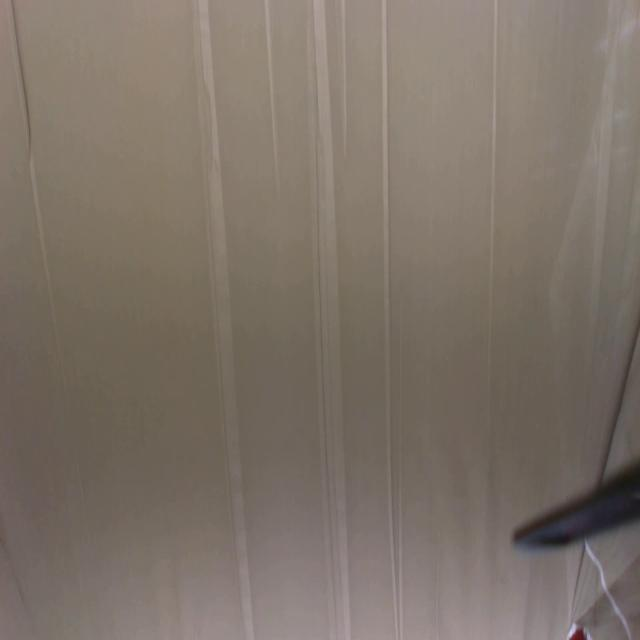crease: (192, 0, 254, 640), (306, 0, 350, 640), (9, 0, 66, 388), (379, 0, 403, 640), (486, 0, 498, 406), (264, 0, 280, 190), (338, 0, 348, 152)
